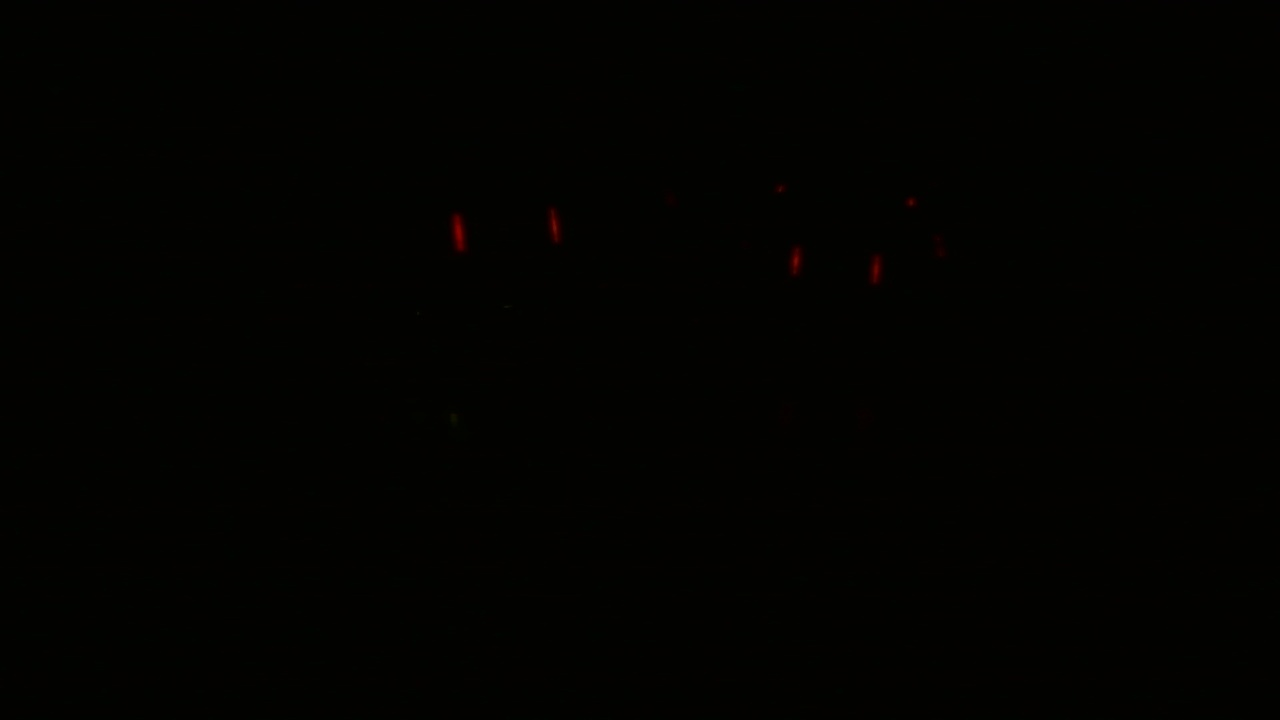pair1: (444, 202, 574, 263)
pair2: (783, 242, 894, 292)
